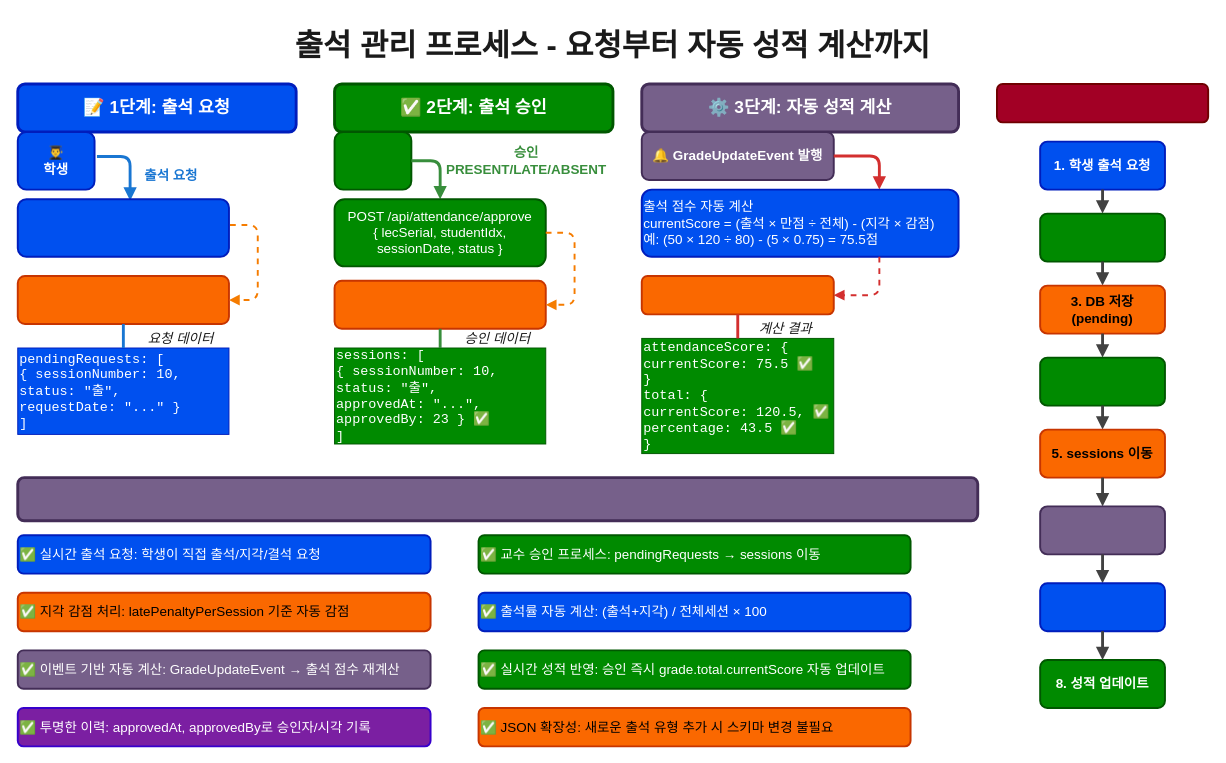
The diagram is 1226 pixels wide and 763 high, and some of its shapes have lost their labels. The centre of each missing label's shape, as x and y in pixels:
2. API 처리: point 1102,237
4. 교수 승인: point 1102,381
6. Event 발행: point 1102,530
7. 자동 계산: point 1102,607
POST /api/attendance/request { lecSerial, sessionDate, status }: point 122,227
🎯 핵심 특징: point 497,499
👨‍🏫 교수: point 372,160
🔄 전체 프로세스 플로우: point 1102,103
🗄️ DB 업데이트 pendingRequests → sessions: point 439,304
🗄️ DB 저장 pendingRequests[] 추가: point 122,299
🗄️ 최종 업데이트: point 737,295
